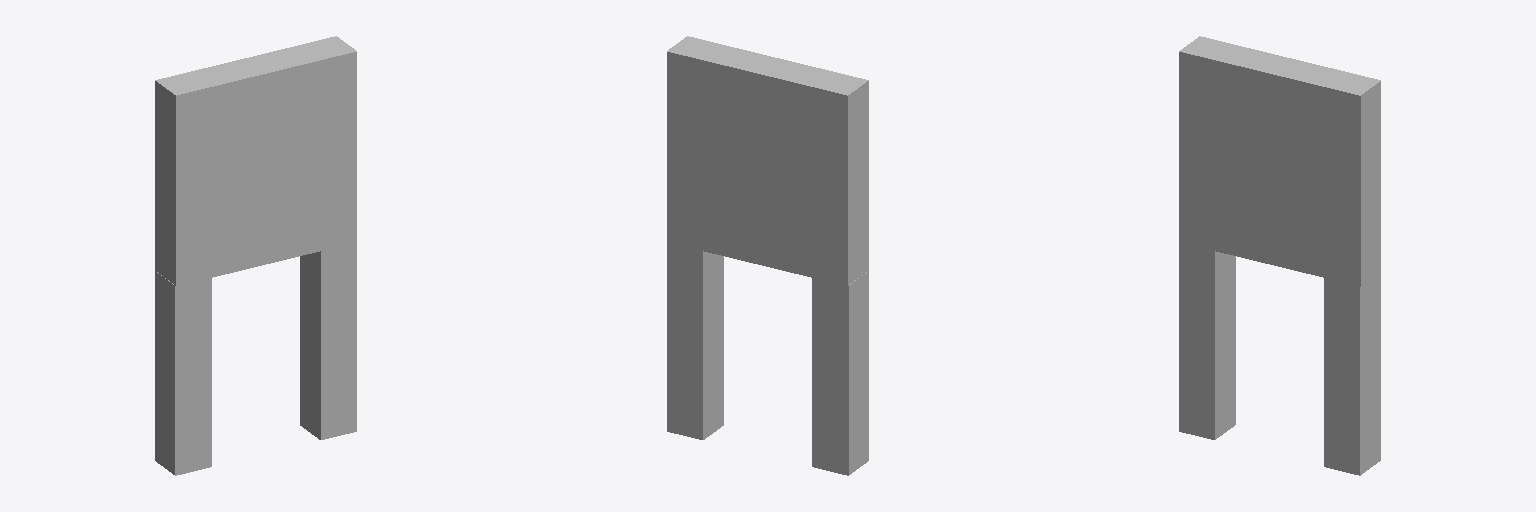
The model's file is panneau.obj.
The picture shows the model from 3 angles: view 1: azimuth 30°, elevation 25°; view 2: azimuth 150°, elevation 25°; view 3: azimuth 330°, elevation 25°; orthographic projection.
Parts seen in each view (by area): view 1: Cube.010, Cube.001, Cube; view 2: Cube.010, Cube.001, Cube; view 3: Cube.010, Cube, Cube.001.
Part boxes in pixels (x1,y1,x2,y2): Cube.010: (155, 36, 356, 285); Cube.001: (155, 271, 211, 475); Cube: (300, 242, 356, 439); Cube.010: (667, 36, 868, 285); Cube.001: (812, 271, 868, 475); Cube: (667, 242, 723, 439); Cube.010: (1179, 36, 1380, 286); Cube: (1324, 272, 1380, 475); Cube.001: (1179, 242, 1235, 439).
Bounding box in the file's own units: 2 × 4 × 0.4.